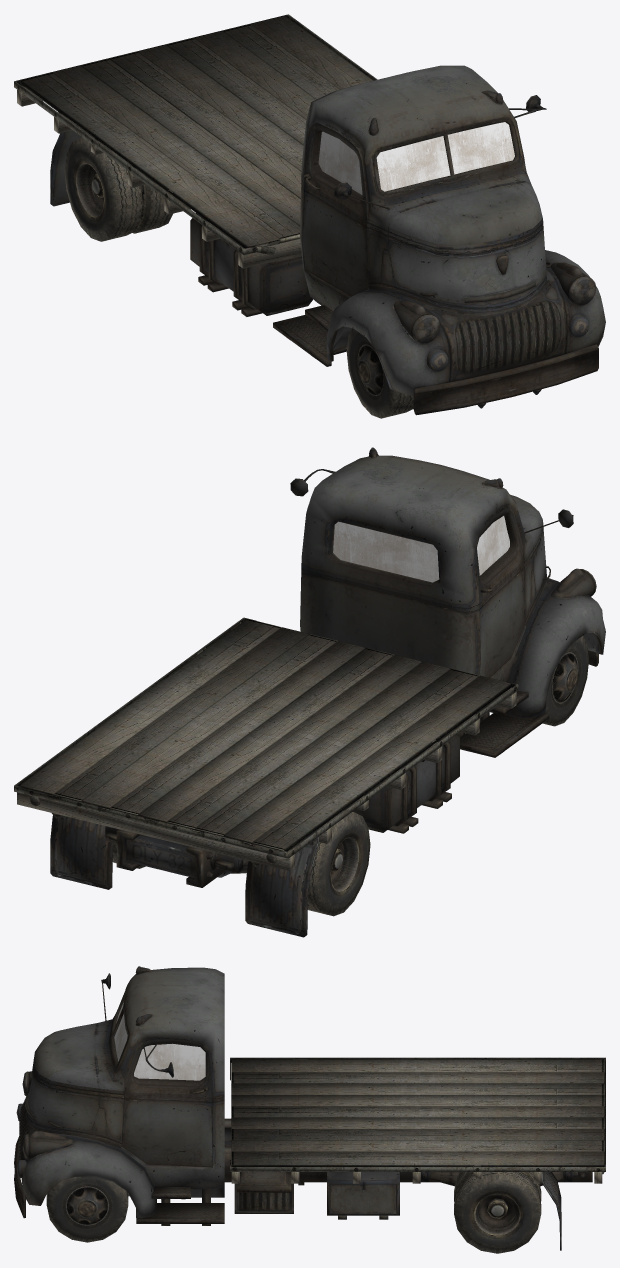
File: Truck.fbx
3 views of the same model, one above another, from view 1: azimuth 30°, elevation 25°; view 2: azimuth 150°, elevation 25°; view 3: azimuth 270°, elevation 25° (orthographic). The views are drawn at different scales.
Parts seen in each view (by area): view 1: truck; view 2: truck; view 3: truck.
Part boxes in pixels (x1,y1,x2,y2): truck: (14,14,605,418); truck: (14,447,605,937); truck: (14,966,605,1253).
Bounding box in the file's own units: 27.45 × 24.96 × 62.61.
3 materials, 3 textured.
